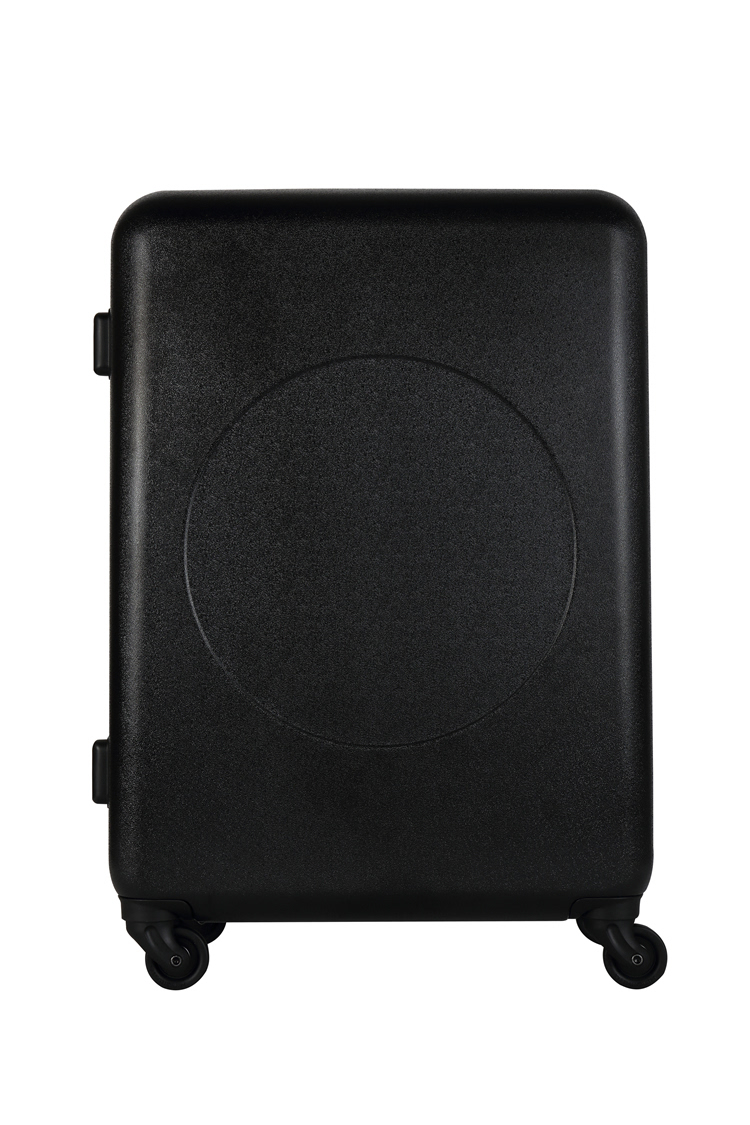suitcase: (85, 180, 671, 994)
